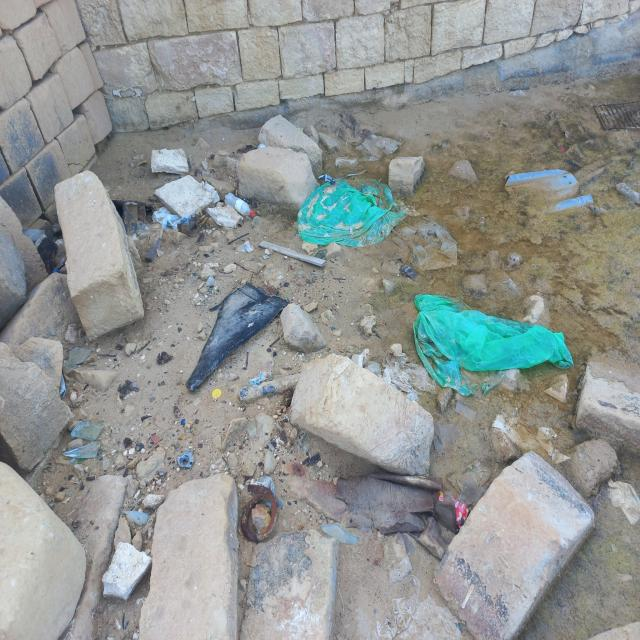Bottle: (224, 193, 255, 218), (60, 374, 66, 398)
Bottle cap: (212, 388, 222, 398), (181, 419, 186, 427), (131, 382, 137, 387)
Broken glass: (319, 522, 358, 545), (63, 347, 92, 374), (63, 439, 100, 458), (70, 421, 105, 441), (123, 511, 149, 526), (315, 248, 327, 259), (78, 457, 85, 464), (70, 458, 76, 465)
Can: (257, 143, 266, 149), (296, 127, 304, 132)
Carton: (334, 473, 470, 556)
Other litter: (184, 282, 291, 392), (503, 153, 637, 219), (238, 474, 281, 543), (23, 228, 67, 275), (593, 98, 640, 132), (112, 199, 154, 236), (394, 257, 419, 280), (122, 613, 129, 632)
Other plastic: (392, 220, 460, 272), (239, 370, 300, 402), (153, 206, 196, 231), (117, 379, 140, 398), (176, 449, 194, 469), (237, 240, 254, 255)
Plastic bag - wrapper: (412, 294, 575, 397), (297, 175, 408, 252), (351, 341, 437, 402)
Straw: (228, 233, 249, 245)
